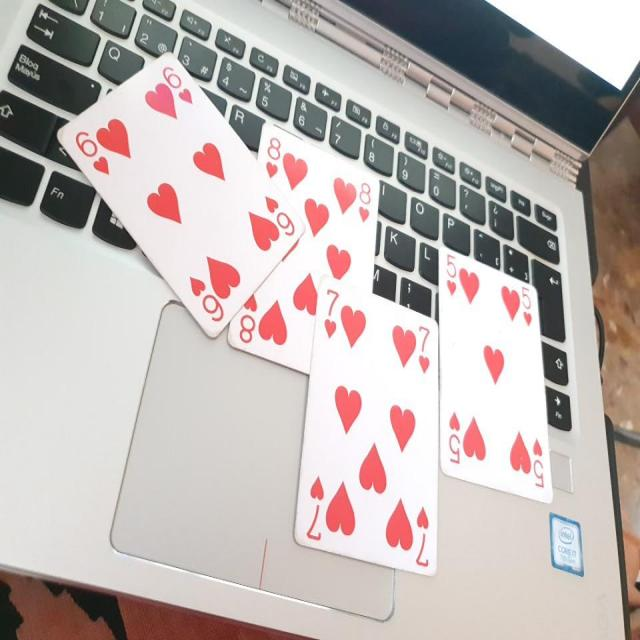5 Hearts: (432, 243, 558, 508)
6 Hearts: (61, 46, 304, 345)
7 Hearts: (292, 274, 448, 581)
8 Hearts: (224, 116, 384, 374)
